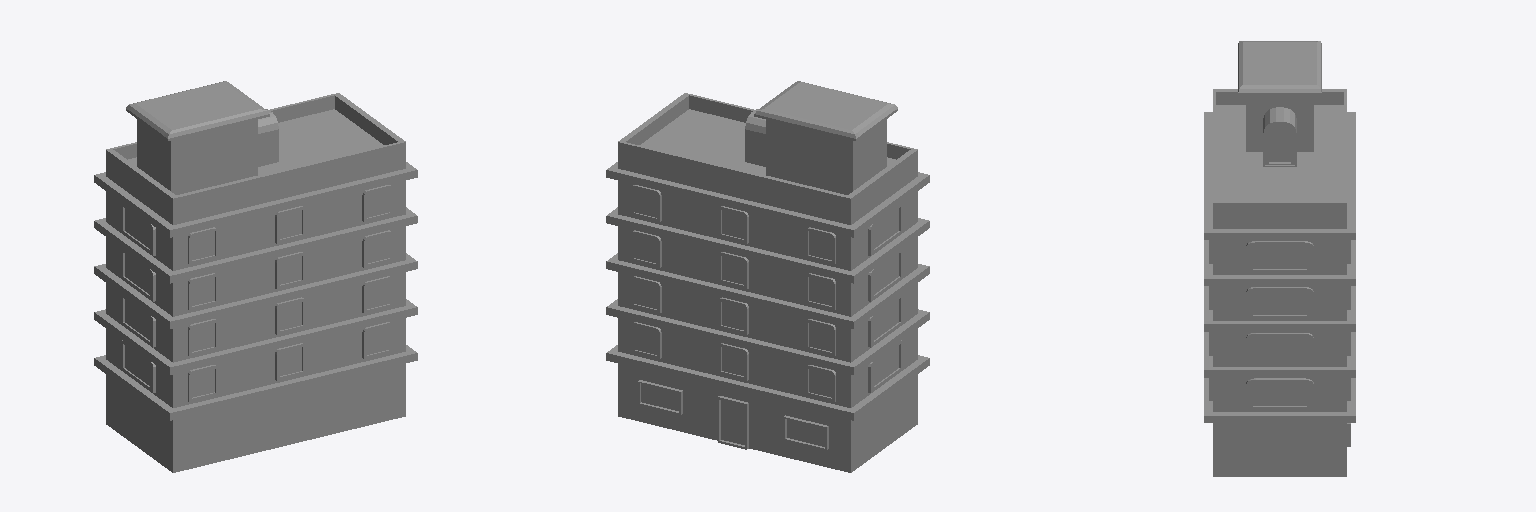
The model's file is BuildingA.obj.
3 views of the same model, side by side, from view 1: azimuth 30°, elevation 25°; view 2: azimuth 150°, elevation 25°; view 3: azimuth 270°, elevation 25° (orthographic).
Visible parts, largest first — view 1: BuildingA_Cube.001; view 2: BuildingA_Cube.001; view 3: BuildingA_Cube.001.
Boxes of the visible parts, x1=… form: BuildingA_Cube.001: x1=94, y1=81, x2=417, y2=472; BuildingA_Cube.001: x1=606, y1=81, x2=929, y2=472; BuildingA_Cube.001: x1=1204, y1=41, x2=1355, y2=476.
Size of the model in its own units: 17 by 21.54 by 9.